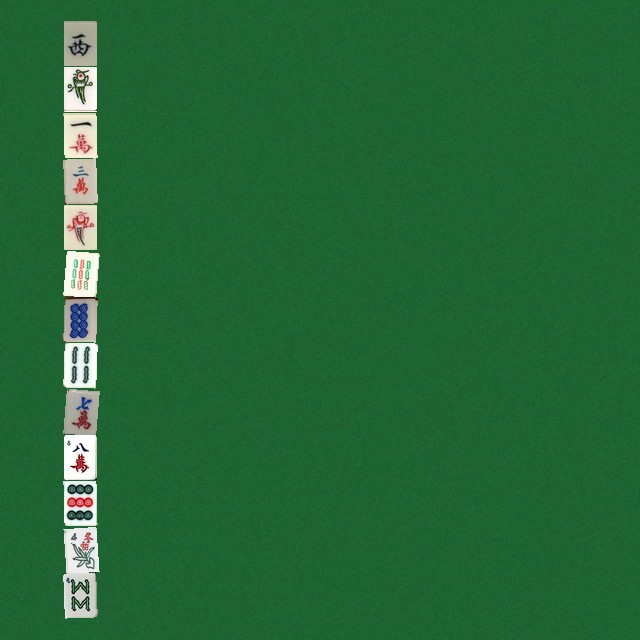tile: (63, 20, 96, 65), (63, 66, 96, 111), (63, 112, 96, 157), (63, 158, 96, 203), (63, 204, 96, 249), (63, 250, 96, 295), (63, 296, 96, 341), (63, 342, 96, 387), (63, 388, 96, 433), (63, 434, 96, 479), (63, 480, 96, 525), (63, 526, 96, 571), (63, 572, 96, 617)
